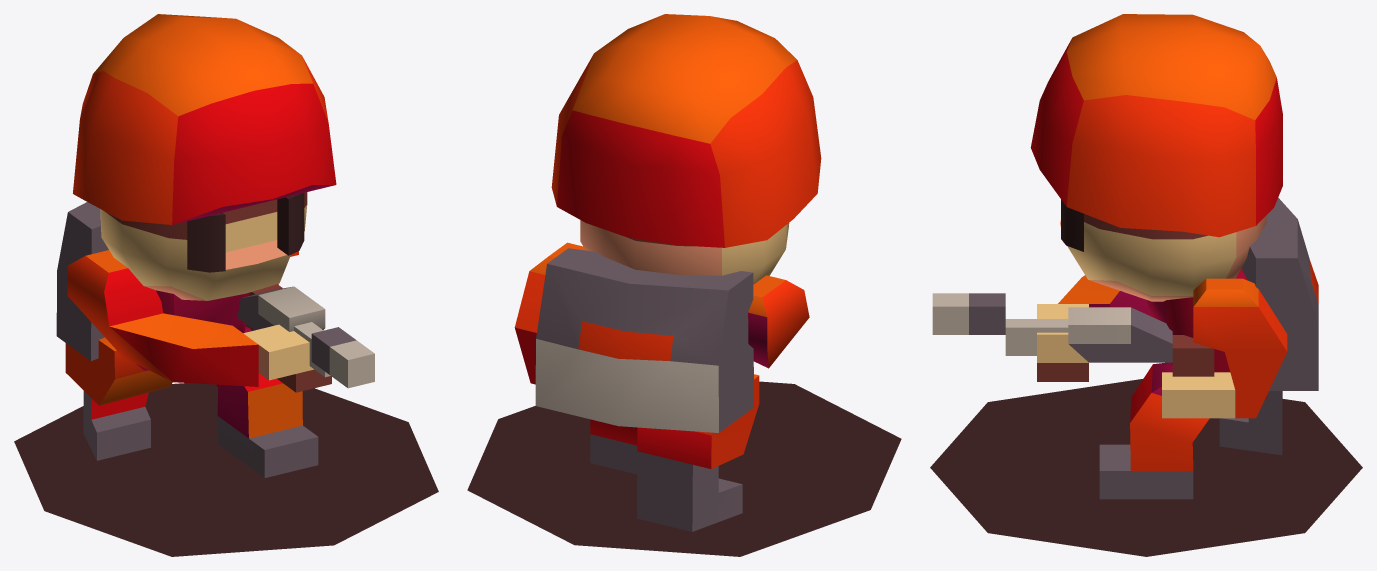
File: InfantryMesh.OrangeStar.glb
3 renders of one model, left to right at view 1: azimuth 30°, elevation 25°; view 2: azimuth 150°, elevation 25°; view 3: azimuth 270°, elevation 25°, orthographic. The views are drawn at different scales.
Parts seen in each view (by area): view 1: InfantryMesh.OrangeStar; view 2: InfantryMesh.OrangeStar; view 3: InfantryMesh.OrangeStar.
Part boxes in pixels (x1=…): InfantryMesh.OrangeStar: x1=14, y1=14, x2=438, y2=556; InfantryMesh.OrangeStar: x1=467, y1=14, x2=901, y2=556; InfantryMesh.OrangeStar: x1=930, y1=14, x2=1362, y2=556.
Size of the model in its own units: 2.03 by 2.3 by 2.07.
Materials: 1 (1 with a texture image).
